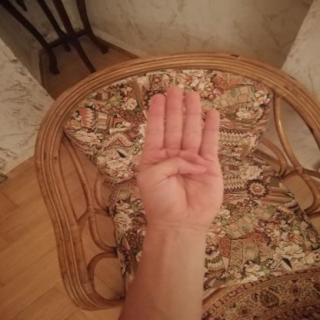KAAF: (123, 79, 234, 233)
